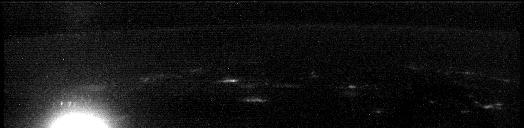positive: (54, 96, 83, 110)
